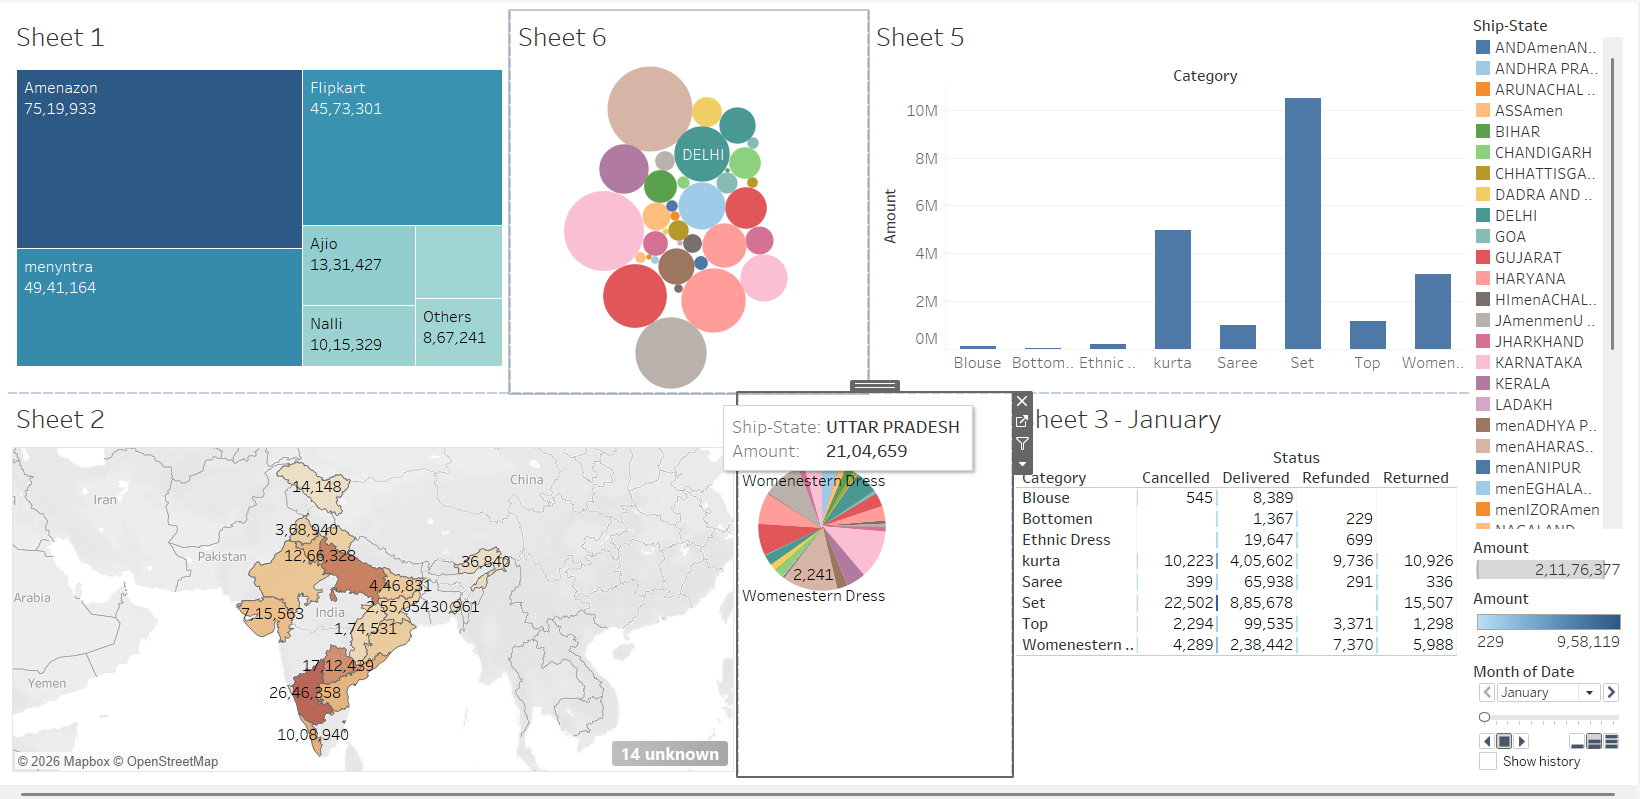

This screenshot's page, from the dashboard's own definition file:
{"tool":"tableau","page":{"name":"Dashboard 1","canvas":[1000,1000],"units":"permille","ordinal":0},"visuals":[{"type":"worksheet","title":"Sheet 1","mark":"Automatic","box":[6.8,12.9,292.2,486.5]},{"type":"worksheet","title":"Sheet 6","mark":"Circle","box":[299,12.9,208.4,486.5]},{"type":"worksheet","title":"Sheet 5","mark":"Bar","rows":["Amount"],"cols":["Category"],"box":[507.4,12.9,349.9,486.5]},{"type":"legend","title":"Sheet 6","param":"[federated.11mogfq09rhlcp17f5clo0vgkdct].[none:ship-state:nk]","box":[857.3,12.9,135.9,582.3]},{"type":"worksheet","title":"Sheet 2","mark":"Automatic","box":[6.8,499.4,425.2,487.7]},{"type":"worksheet","title":"Sheet 4","mark":"Pie","box":[432,499.4,159.2,487.7]},{"type":"worksheet","title":"Sheet 3","mark":"Bar","rows":["Category"],"cols":["Status"],"box":[591.2,499.4,266,487.7]},{"type":"legend","title":"Sheet 4","param":"[federated.11mogfq09rhlcp17f5clo0vgkdct].[sum:Amount:qk]","box":[857.3,595.2,135.9,82.2]},{"type":"legend","title":"Sheet 3","param":"[federated.11mogfq09rhlcp17f5clo0vgkdct].[sum:Amount:qk]","box":[857.3,677.4,135.9,117.7]},{"type":"currpage","title":"Sheet 3","box":[857.3,795.2,135.9,191.9]}]}

Visuals, with their boxes on the dashboard's canvas, which has no fixed pixel size, in thousandths of its width and height (x1, y1, x2, y2). These are canvas units, not pixel positions in the 1640x799 screenshot, which may show the page scaled, cropped or inside an application window:
"Sheet 1" worksheet: locate(7, 13, 299, 499)
"Sheet 6" worksheet (Circle marks): locate(299, 13, 507, 499)
"Sheet 5" worksheet (Bar marks): locate(507, 13, 857, 499)
"Sheet 6" legend: locate(857, 13, 993, 595)
"Sheet 2" worksheet: locate(7, 499, 432, 987)
"Sheet 4" worksheet (Pie marks): locate(432, 499, 591, 987)
"Sheet 3" worksheet (Bar marks): locate(591, 499, 857, 987)
"Sheet 4" legend: locate(857, 595, 993, 677)
"Sheet 3" legend: locate(857, 677, 993, 795)
"Sheet 3" currpage: locate(857, 795, 993, 987)
